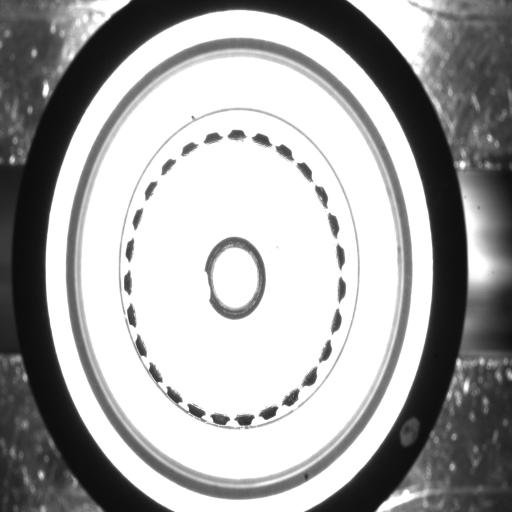gear: (118, 125, 356, 431)
